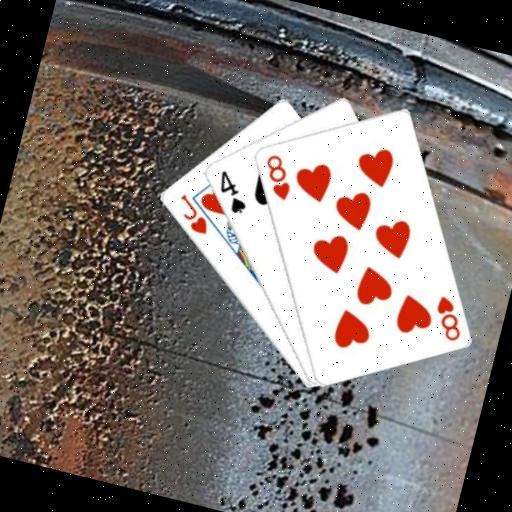4S: (209, 166, 255, 217)
8H: (255, 149, 299, 203), (426, 291, 470, 345)
JH: (169, 190, 216, 237)
